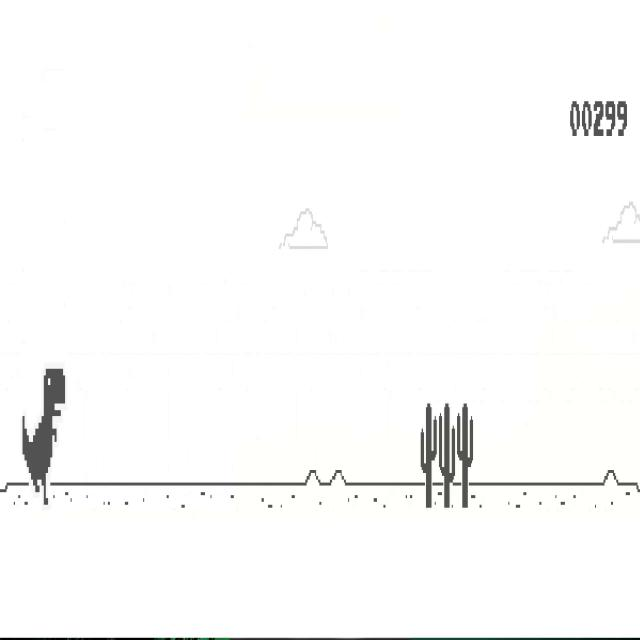cacto: (420, 401, 438, 511), (438, 401, 456, 510), (456, 401, 474, 510)
dino: (21, 364, 67, 507)
